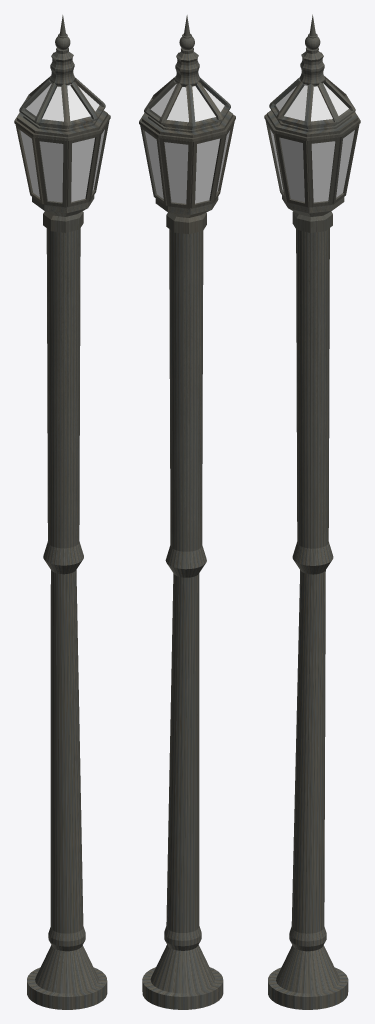
File: Farol.fbx
The picture shows the model from 3 angles, left to right: view 1: azimuth 30°, elevation 25°; view 2: azimuth 210°, elevation 25°; view 3: azimuth 330°, elevation 25°; orthographic projection.
Parts seen in each view (by area): view 1: Farol, Vidrios; view 2: Farol, Vidrios; view 3: Farol, Vidrios.
Boxes of the visible parts, x1=… form: Farol: x1=14, y1=15, x2=110, y2=1009; Vidrios: x1=20, y1=83, x2=104, y2=202; Farol: x1=139, y1=15, x2=235, y2=1009; Vidrios: x1=145, y1=84, x2=229, y2=203; Farol: x1=264, y1=14, x2=360, y2=1009; Vidrios: x1=270, y1=83, x2=354, y2=202.
Bounding box in the file's own units: 99.4 × 1201 × 105.
